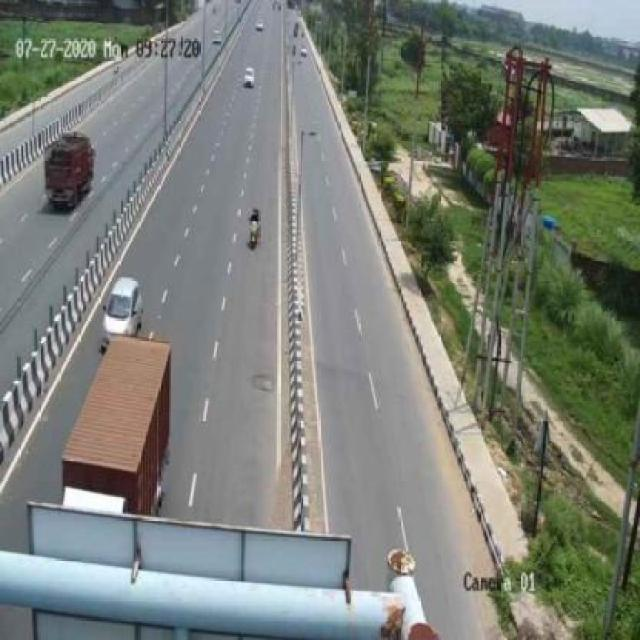car: (99, 272, 144, 343), (242, 66, 258, 91)
